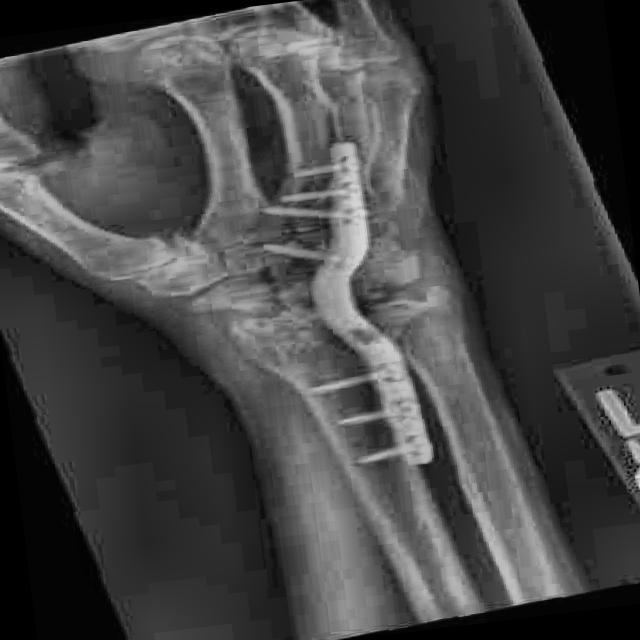wrist positive: (176, 286, 467, 365), (334, 206, 454, 306)
